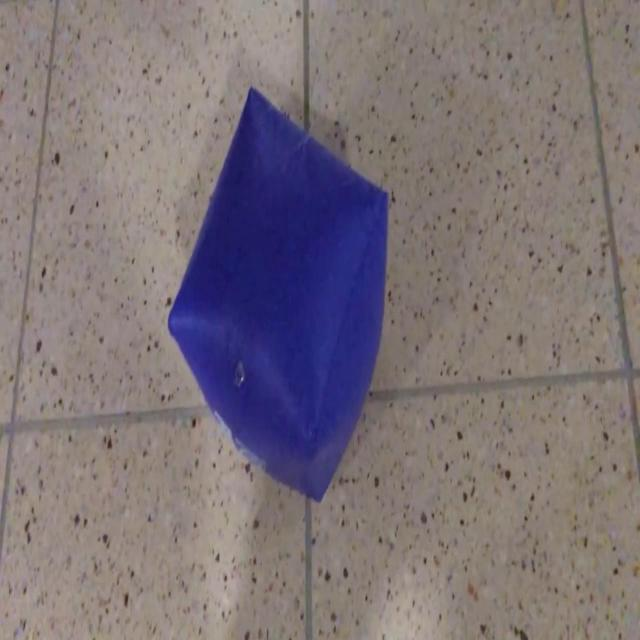frc_cube: (166, 82, 388, 500)
